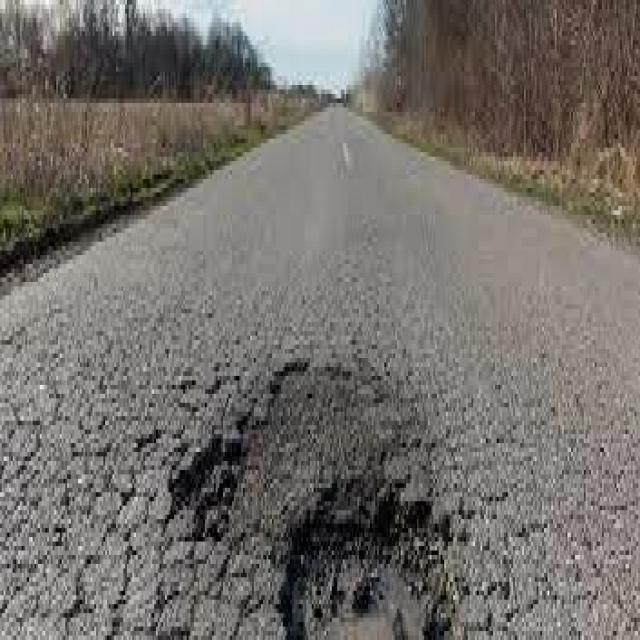Pothole: (134, 349, 493, 640)
